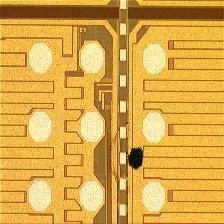PARTICLE: (124, 145, 152, 173)
